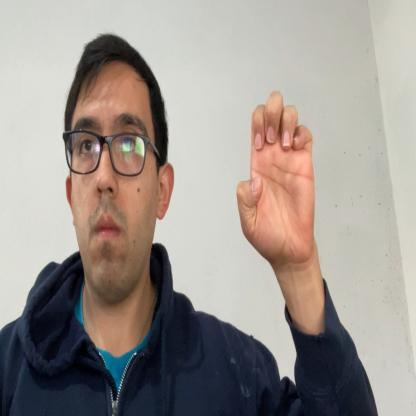E: (236, 88, 316, 261)
